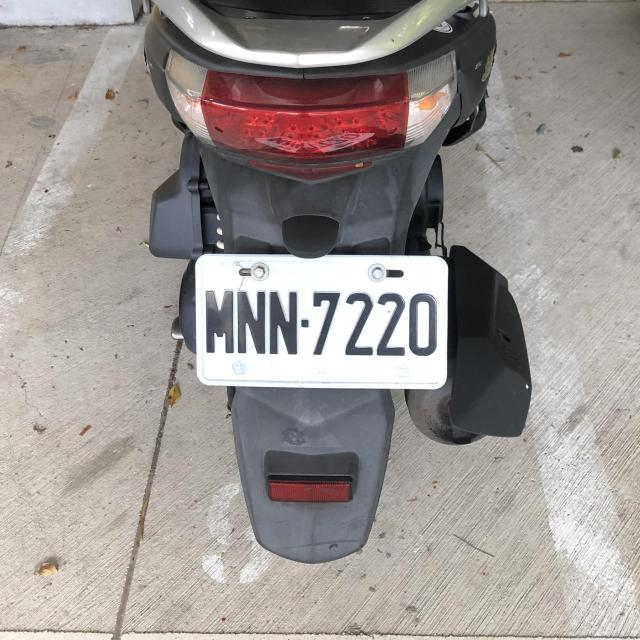W: (192, 250, 447, 392)
